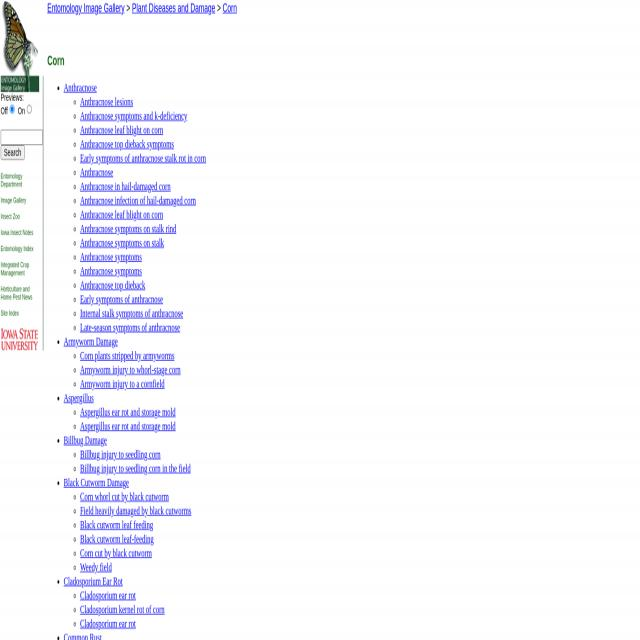button: (0, 0, 38, 83), (0, 327, 37, 350), (0, 144, 24, 158)
field: (0, 128, 42, 143), (9, 104, 15, 114), (26, 104, 32, 114)
